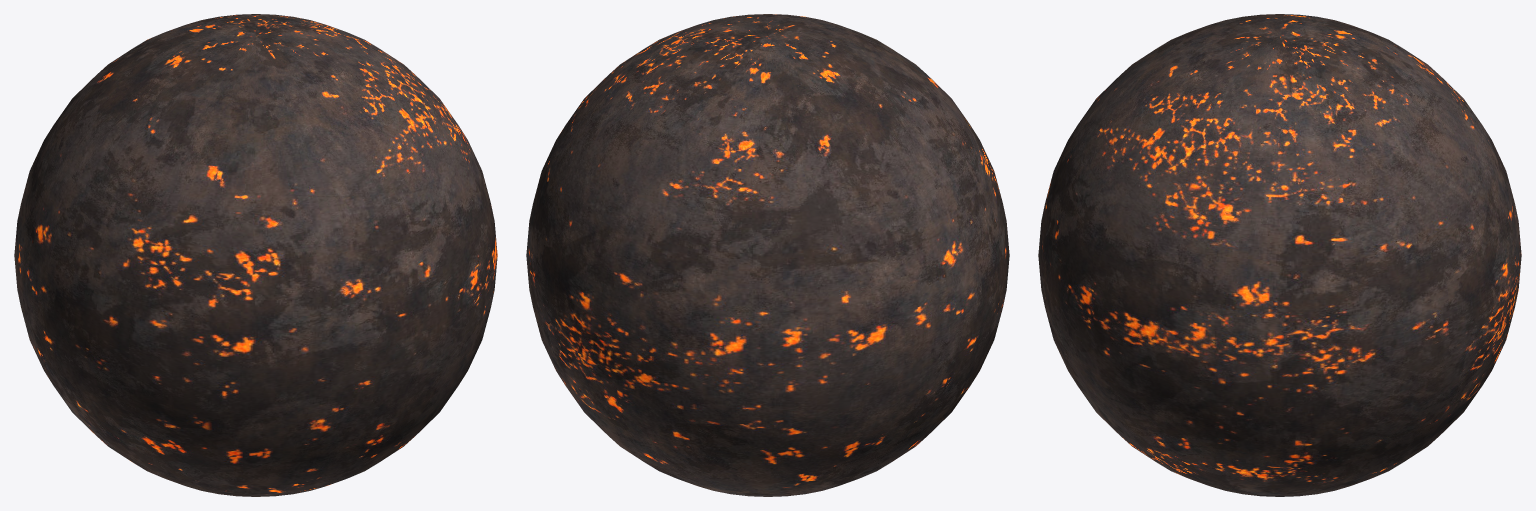
File: lavaplanet.fbx
3 views of the same model, side by side, from view 1: azimuth 30°, elevation 25°; view 2: azimuth 150°, elevation 25°; view 3: azimuth 270°, elevation 25° (orthographic).
Parts seen in each view (by area): view 1: Object_7; view 2: Object_7; view 3: Object_7.
Boxes of the visible parts, box(x1,y1,x2,y2) form: Object_7: box(14, 14, 497, 496); Object_7: box(526, 14, 1009, 496); Object_7: box(1038, 14, 1521, 496).
Size of the model in its own units: 705 by 705 by 705.
